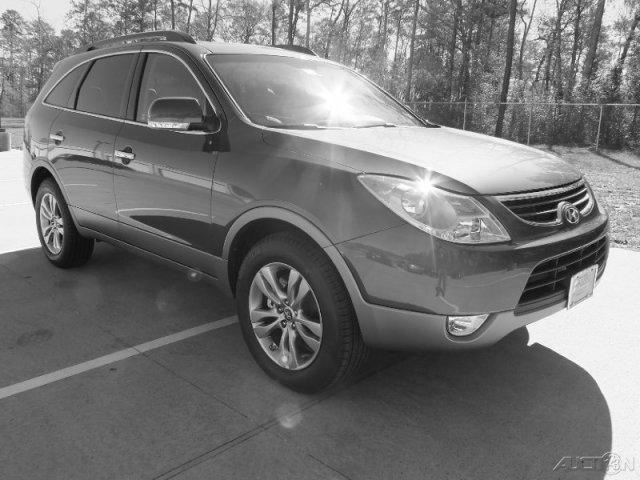car: (24, 32, 609, 397)
